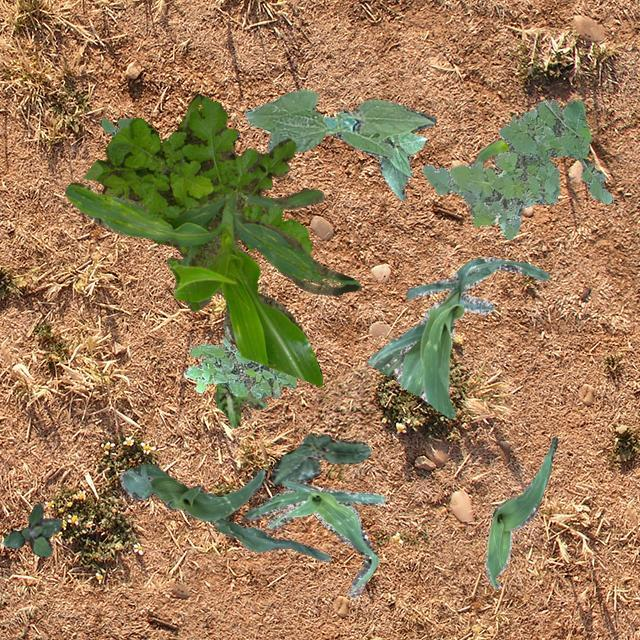crop: (64, 182, 360, 384), (366, 255, 548, 418), (119, 464, 328, 560), (243, 478, 384, 598), (244, 89, 436, 158), (484, 436, 556, 588), (270, 432, 370, 484), (370, 130, 426, 200), (468, 138, 510, 164)
weed: (82, 92, 310, 310), (420, 98, 612, 238), (182, 320, 296, 398), (1, 502, 61, 556), (214, 382, 266, 426), (100, 118, 132, 138)
